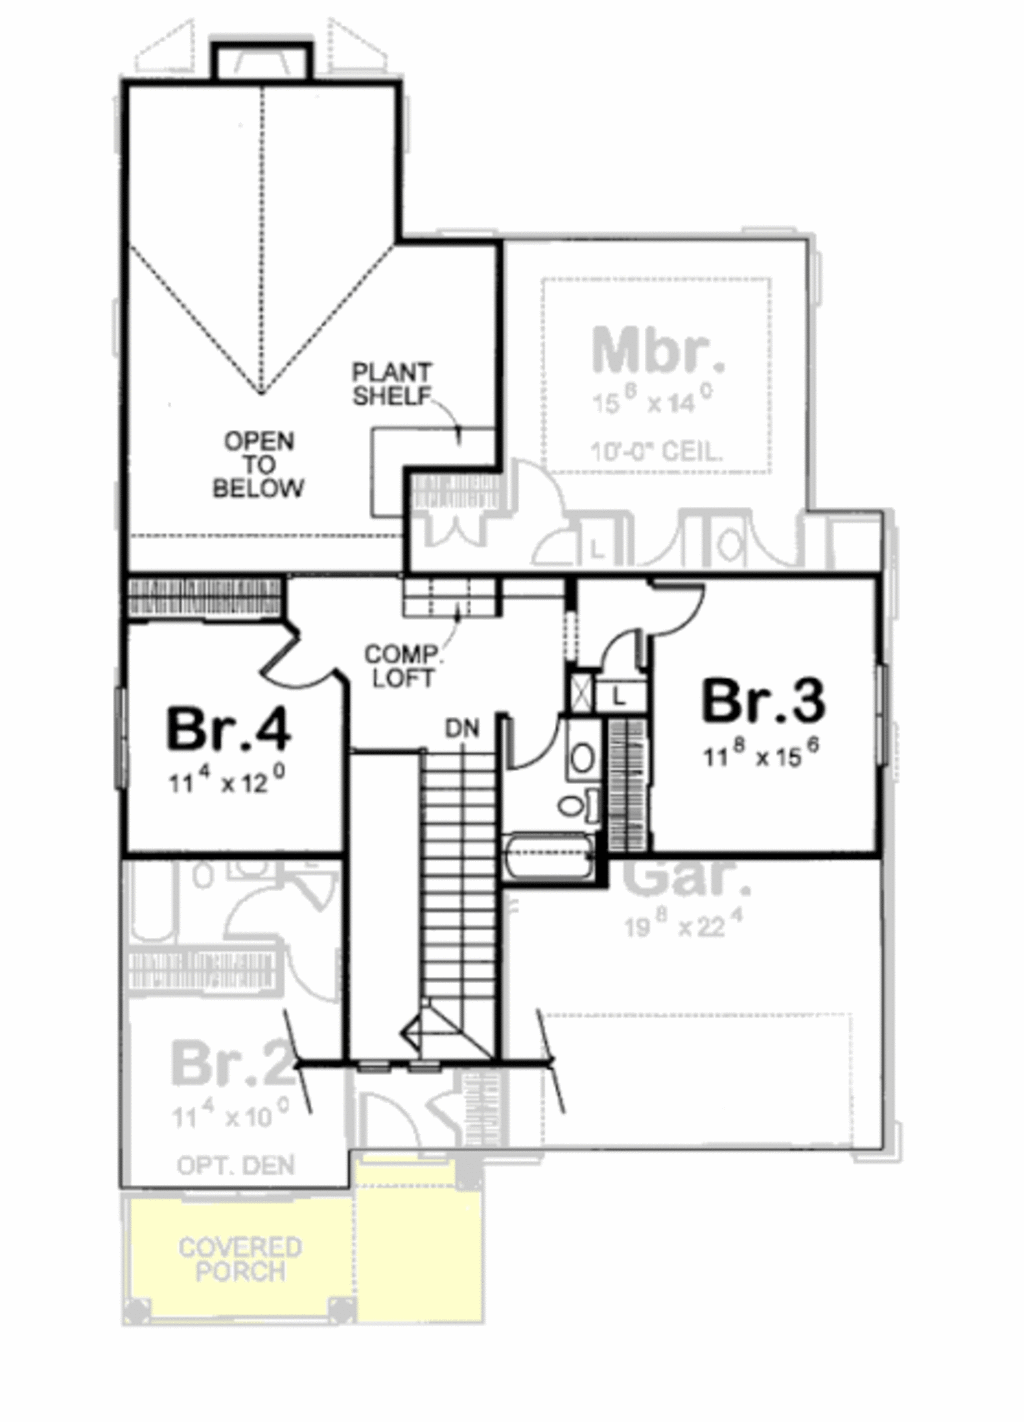door: (263, 615, 337, 704), (652, 580, 706, 641), (604, 624, 650, 673), (513, 715, 556, 767)
large_sink: (547, 789, 606, 830)
small_sink: (558, 721, 602, 787)
stairs: (402, 752, 510, 1071)
tub: (502, 826, 600, 882)
window: (106, 680, 145, 790), (874, 667, 890, 767)
